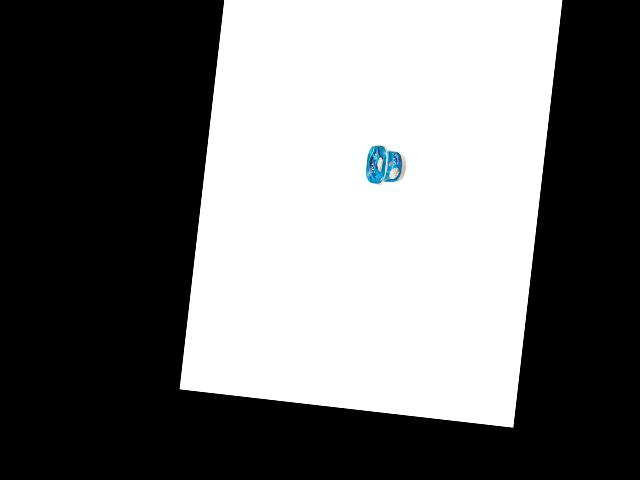cotage: (363, 141, 407, 189)
